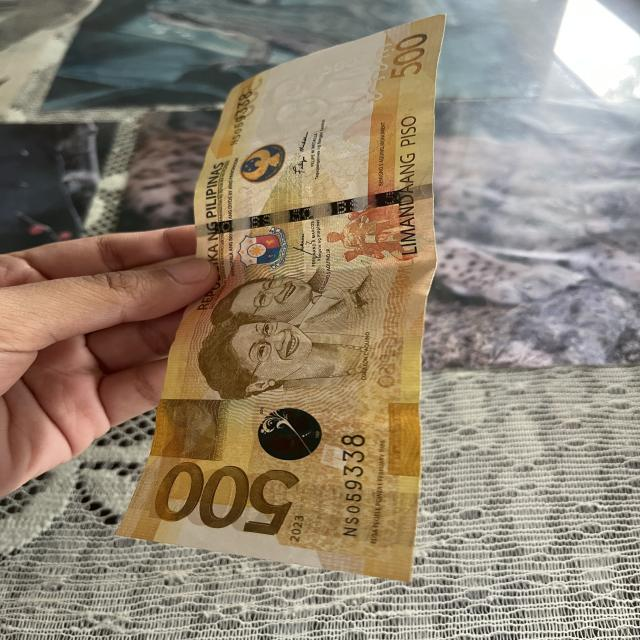concealed_value: (150, 397, 228, 459)
optically_variable_device: (248, 398, 340, 470)
see_through_mark: (360, 34, 395, 121)
serial_number: (322, 430, 385, 538)
watermark: (255, 56, 367, 134)
